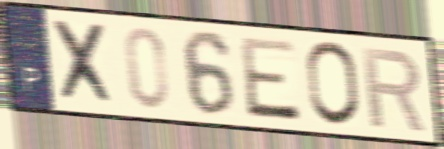0: (122, 25, 170, 112)
6: (180, 28, 236, 120)
E: (237, 35, 303, 125)
O: (304, 39, 363, 130)
R: (359, 44, 429, 134)
X: (47, 17, 120, 109)
